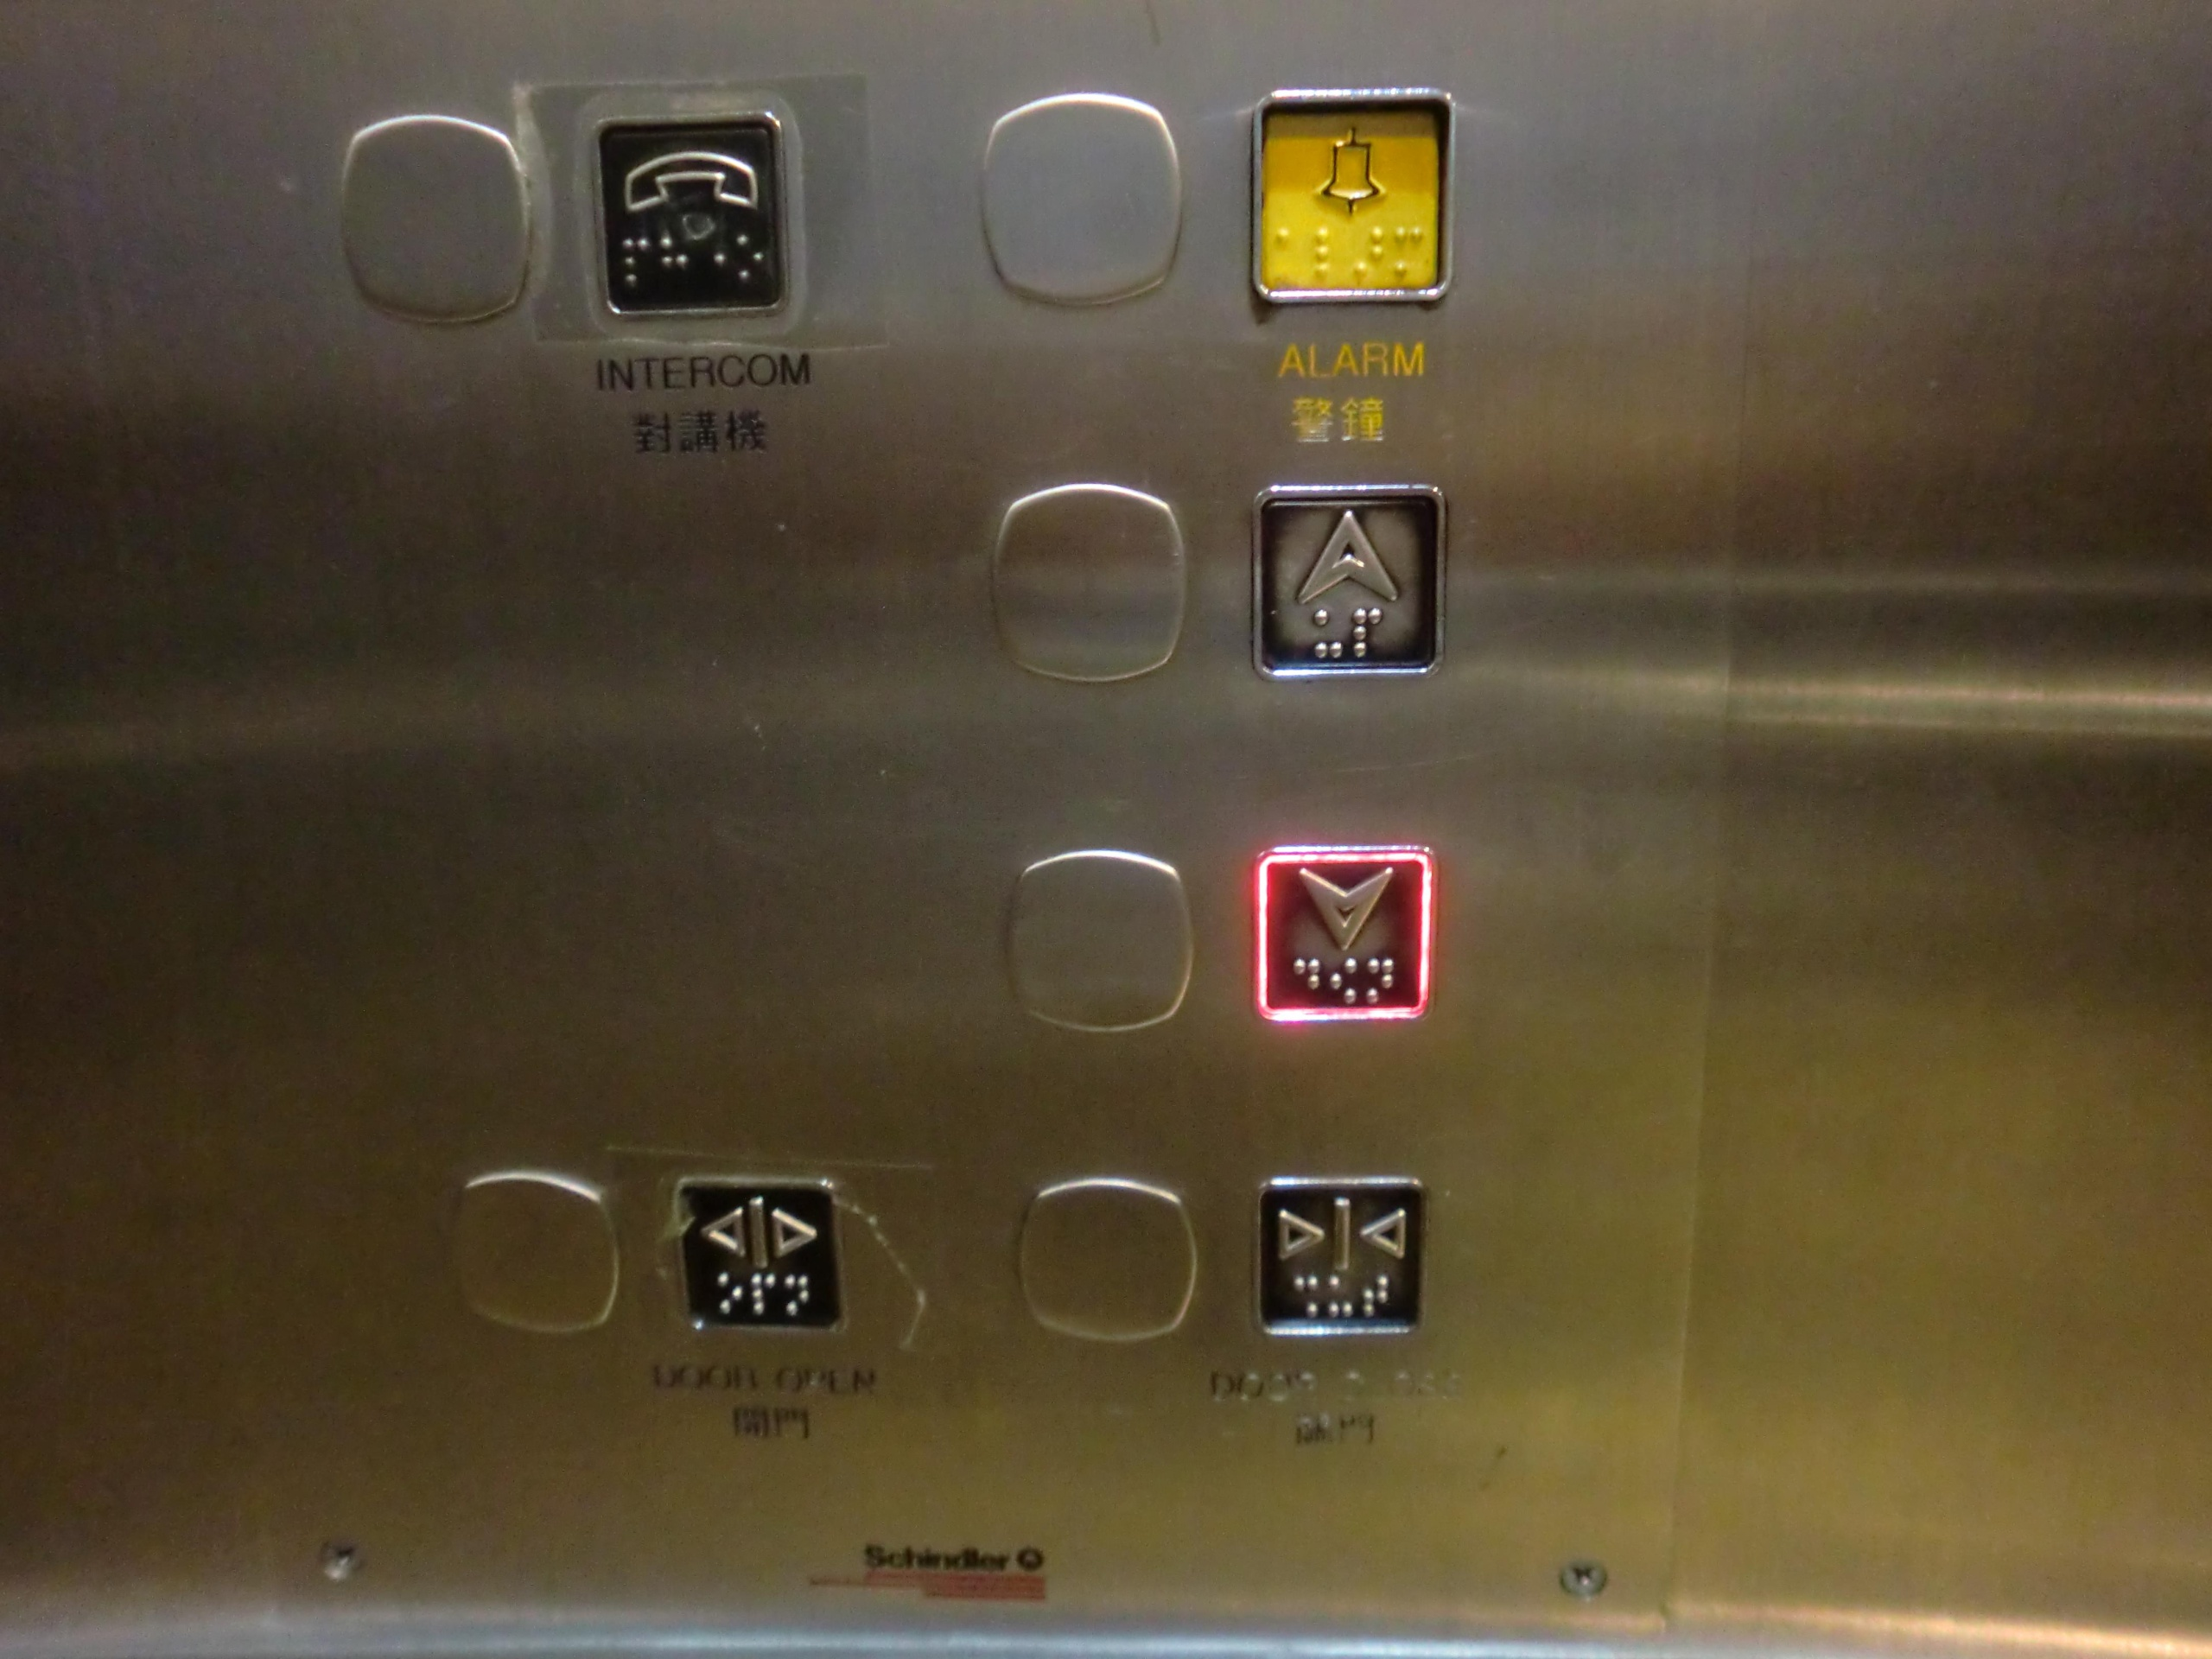alarm: (1244, 82, 1460, 312)
call: (589, 106, 796, 321)
close: (1251, 1173, 1428, 1340)
down: (1251, 842, 1433, 1023)
open: (672, 1176, 846, 1337)
up: (1249, 483, 1449, 683)
